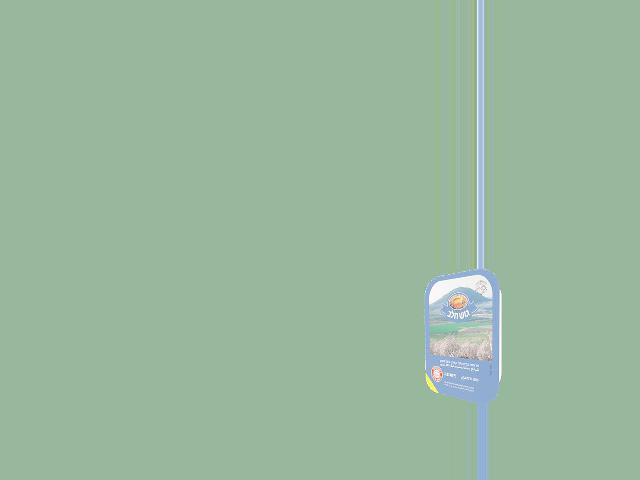cheese: (421, 278, 510, 389)
